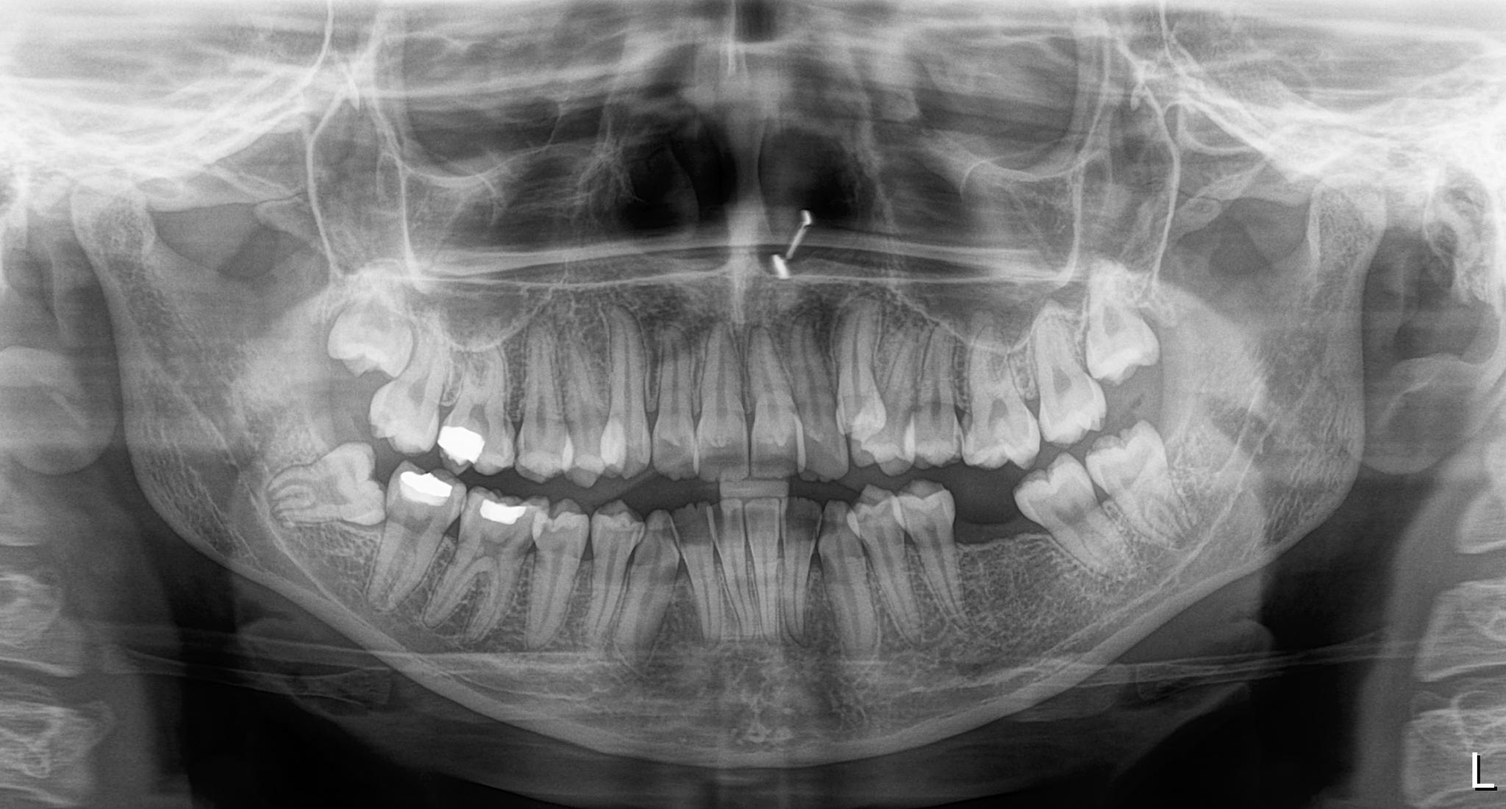Impacted Third Molar: (256, 448, 385, 527), (325, 277, 411, 375), (1085, 277, 1158, 386)
Missing Tooth: (960, 487, 1029, 623)
